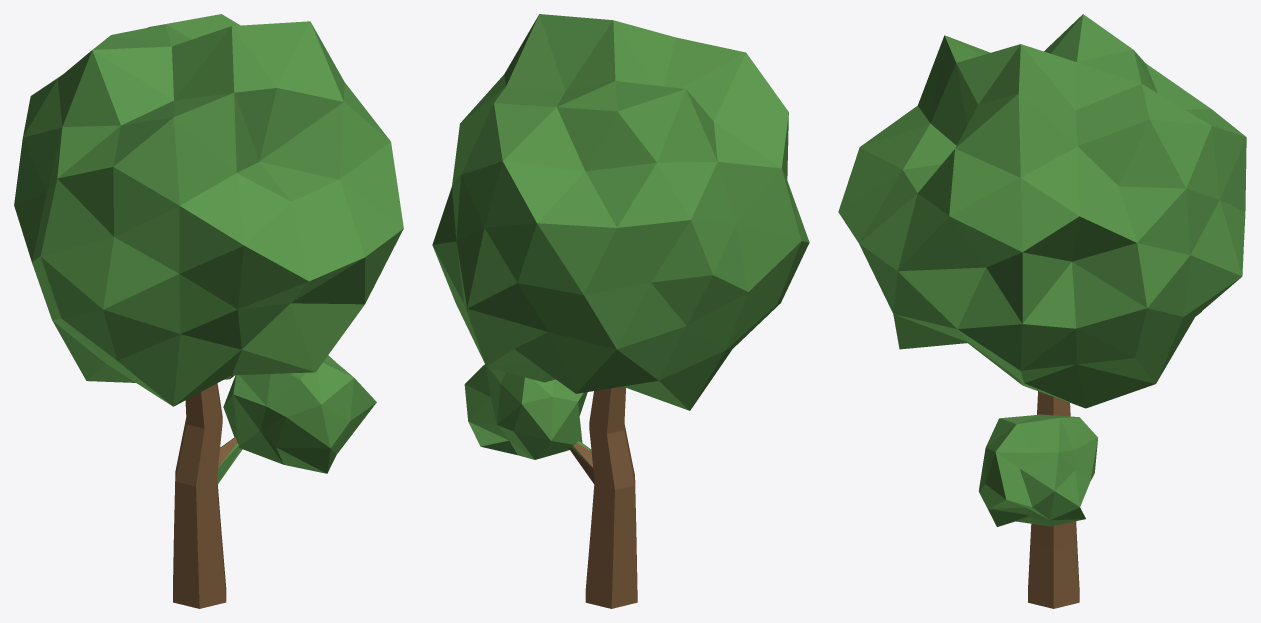
Rendered from tree3d-081.glb.
3 renders of one model, left to right at view 1: azimuth 30°, elevation 25°; view 2: azimuth 150°, elevation 25°; view 3: azimuth 270°, elevation 25°, orthographic. The views are drawn at different scales.
Visible parts, largest first — view 1: tree3d-081; view 2: tree3d-081; view 3: tree3d-081.
Part boxes in pixels (box(x1,y1,x2,y2)): tree3d-081: box(14, 14, 403, 608); tree3d-081: box(432, 14, 809, 608); tree3d-081: box(838, 14, 1246, 608).
Size of the model in its own units: 0.61 by 1 by 0.6615.
